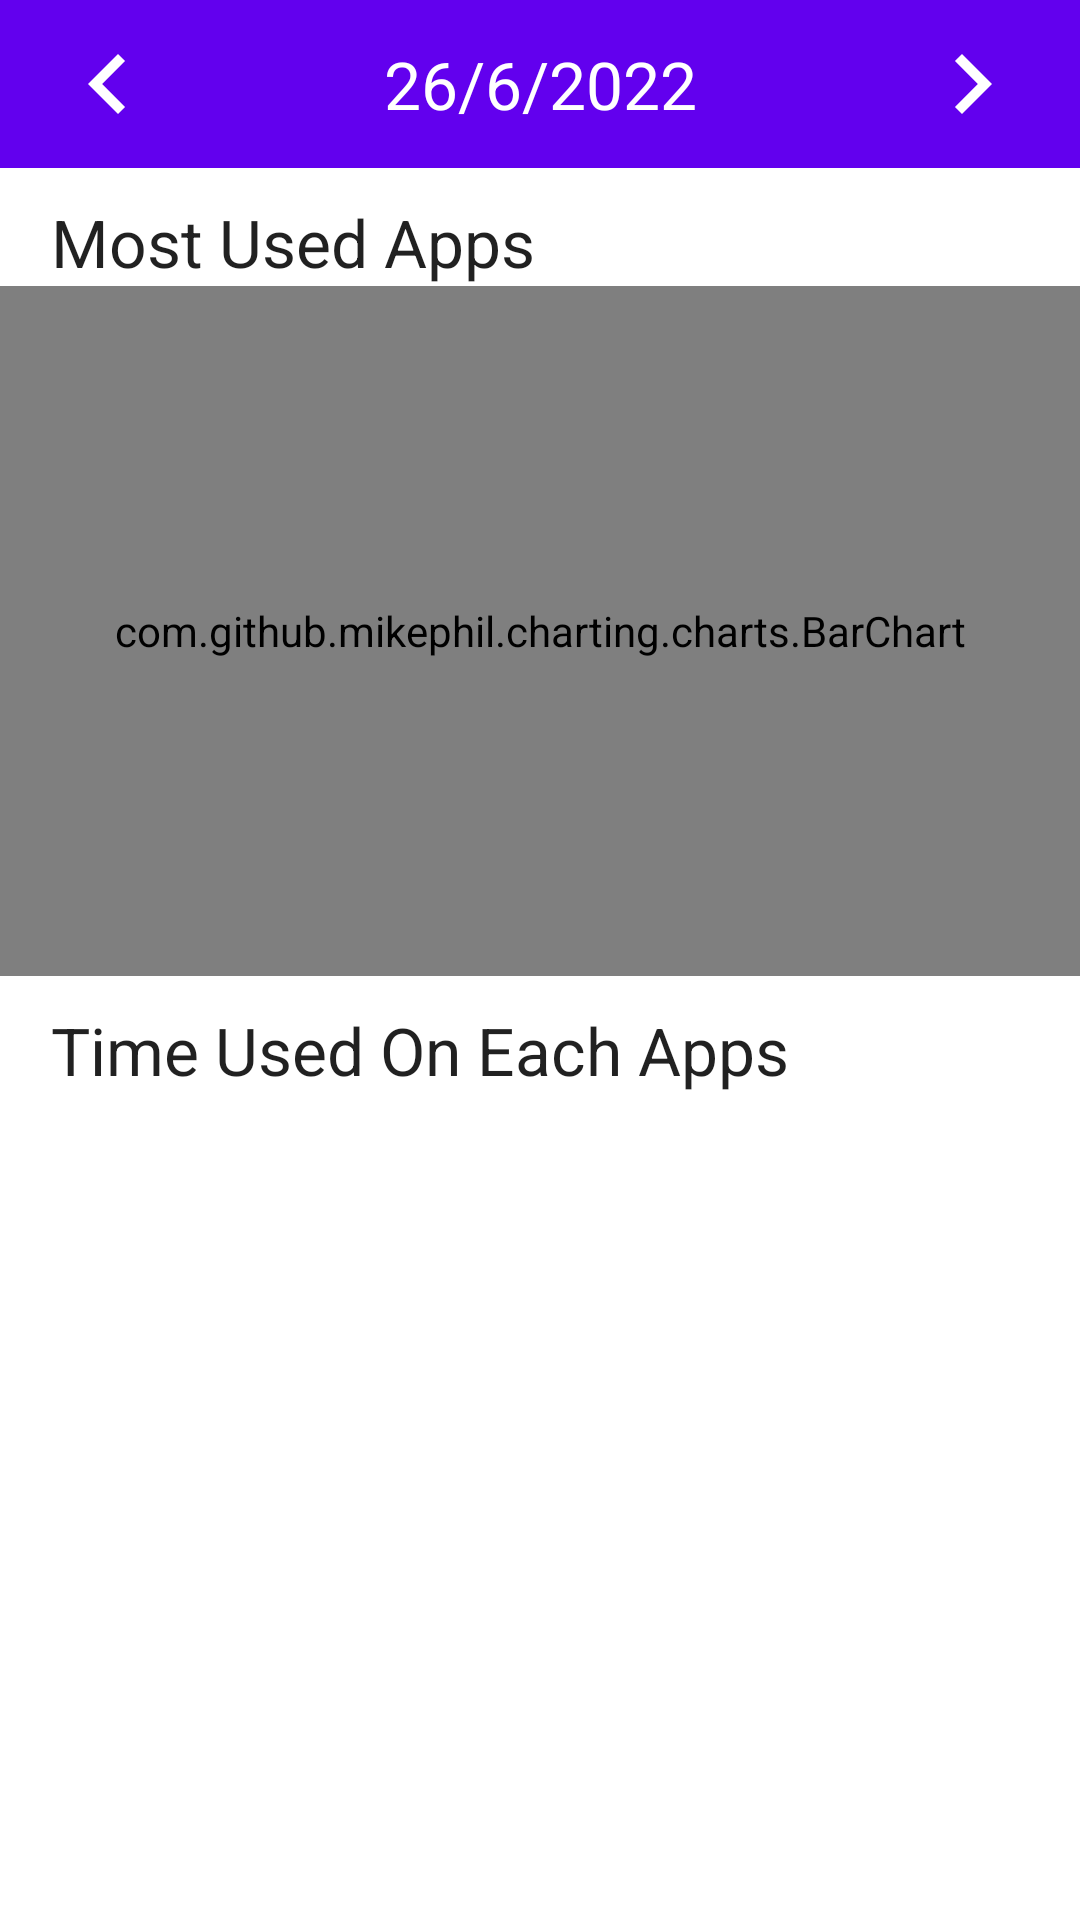

Locate icon controls on the screen. Image size 1080x1920, boxes as (x1, y1, x2, y2).
chevron left: (88, 54, 125, 114)
chevron right: (955, 54, 992, 114)
